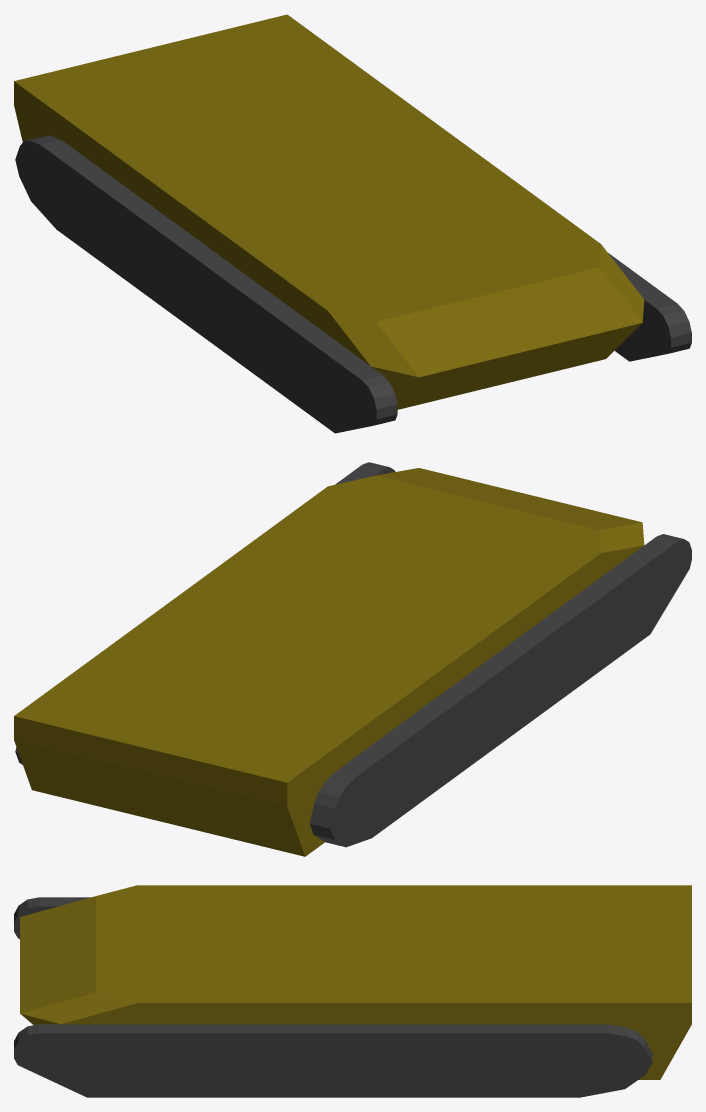
File: Tank_Chassis_V2.fbx
3 renders of one model, top to bottom at view 1: azimuth 30°, elevation 25°; view 2: azimuth 150°, elevation 25°; view 3: azimuth 270°, elevation 25°, orthographic. The views are drawn at different scales.
Visible parts, largest first — view 1: Tank_Chassis; view 2: Tank_Chassis; view 3: Tank_Chassis.
Boxes of the visible parts, left/top/right/bottom form: Tank_Chassis: left=14, top=14, right=691, bottom=433; Tank_Chassis: left=14, top=462, right=691, bottom=856; Tank_Chassis: left=14, top=885, right=691, bottom=1097.
Size of the model in its own units: 687 by 202 by 1448.
